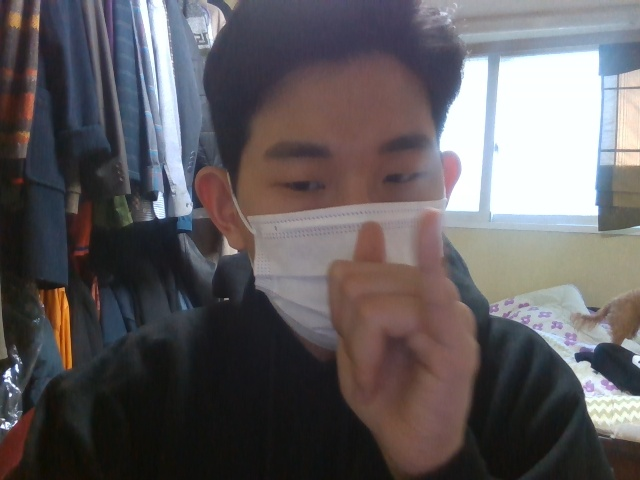HAVE: (326, 209, 479, 473)
